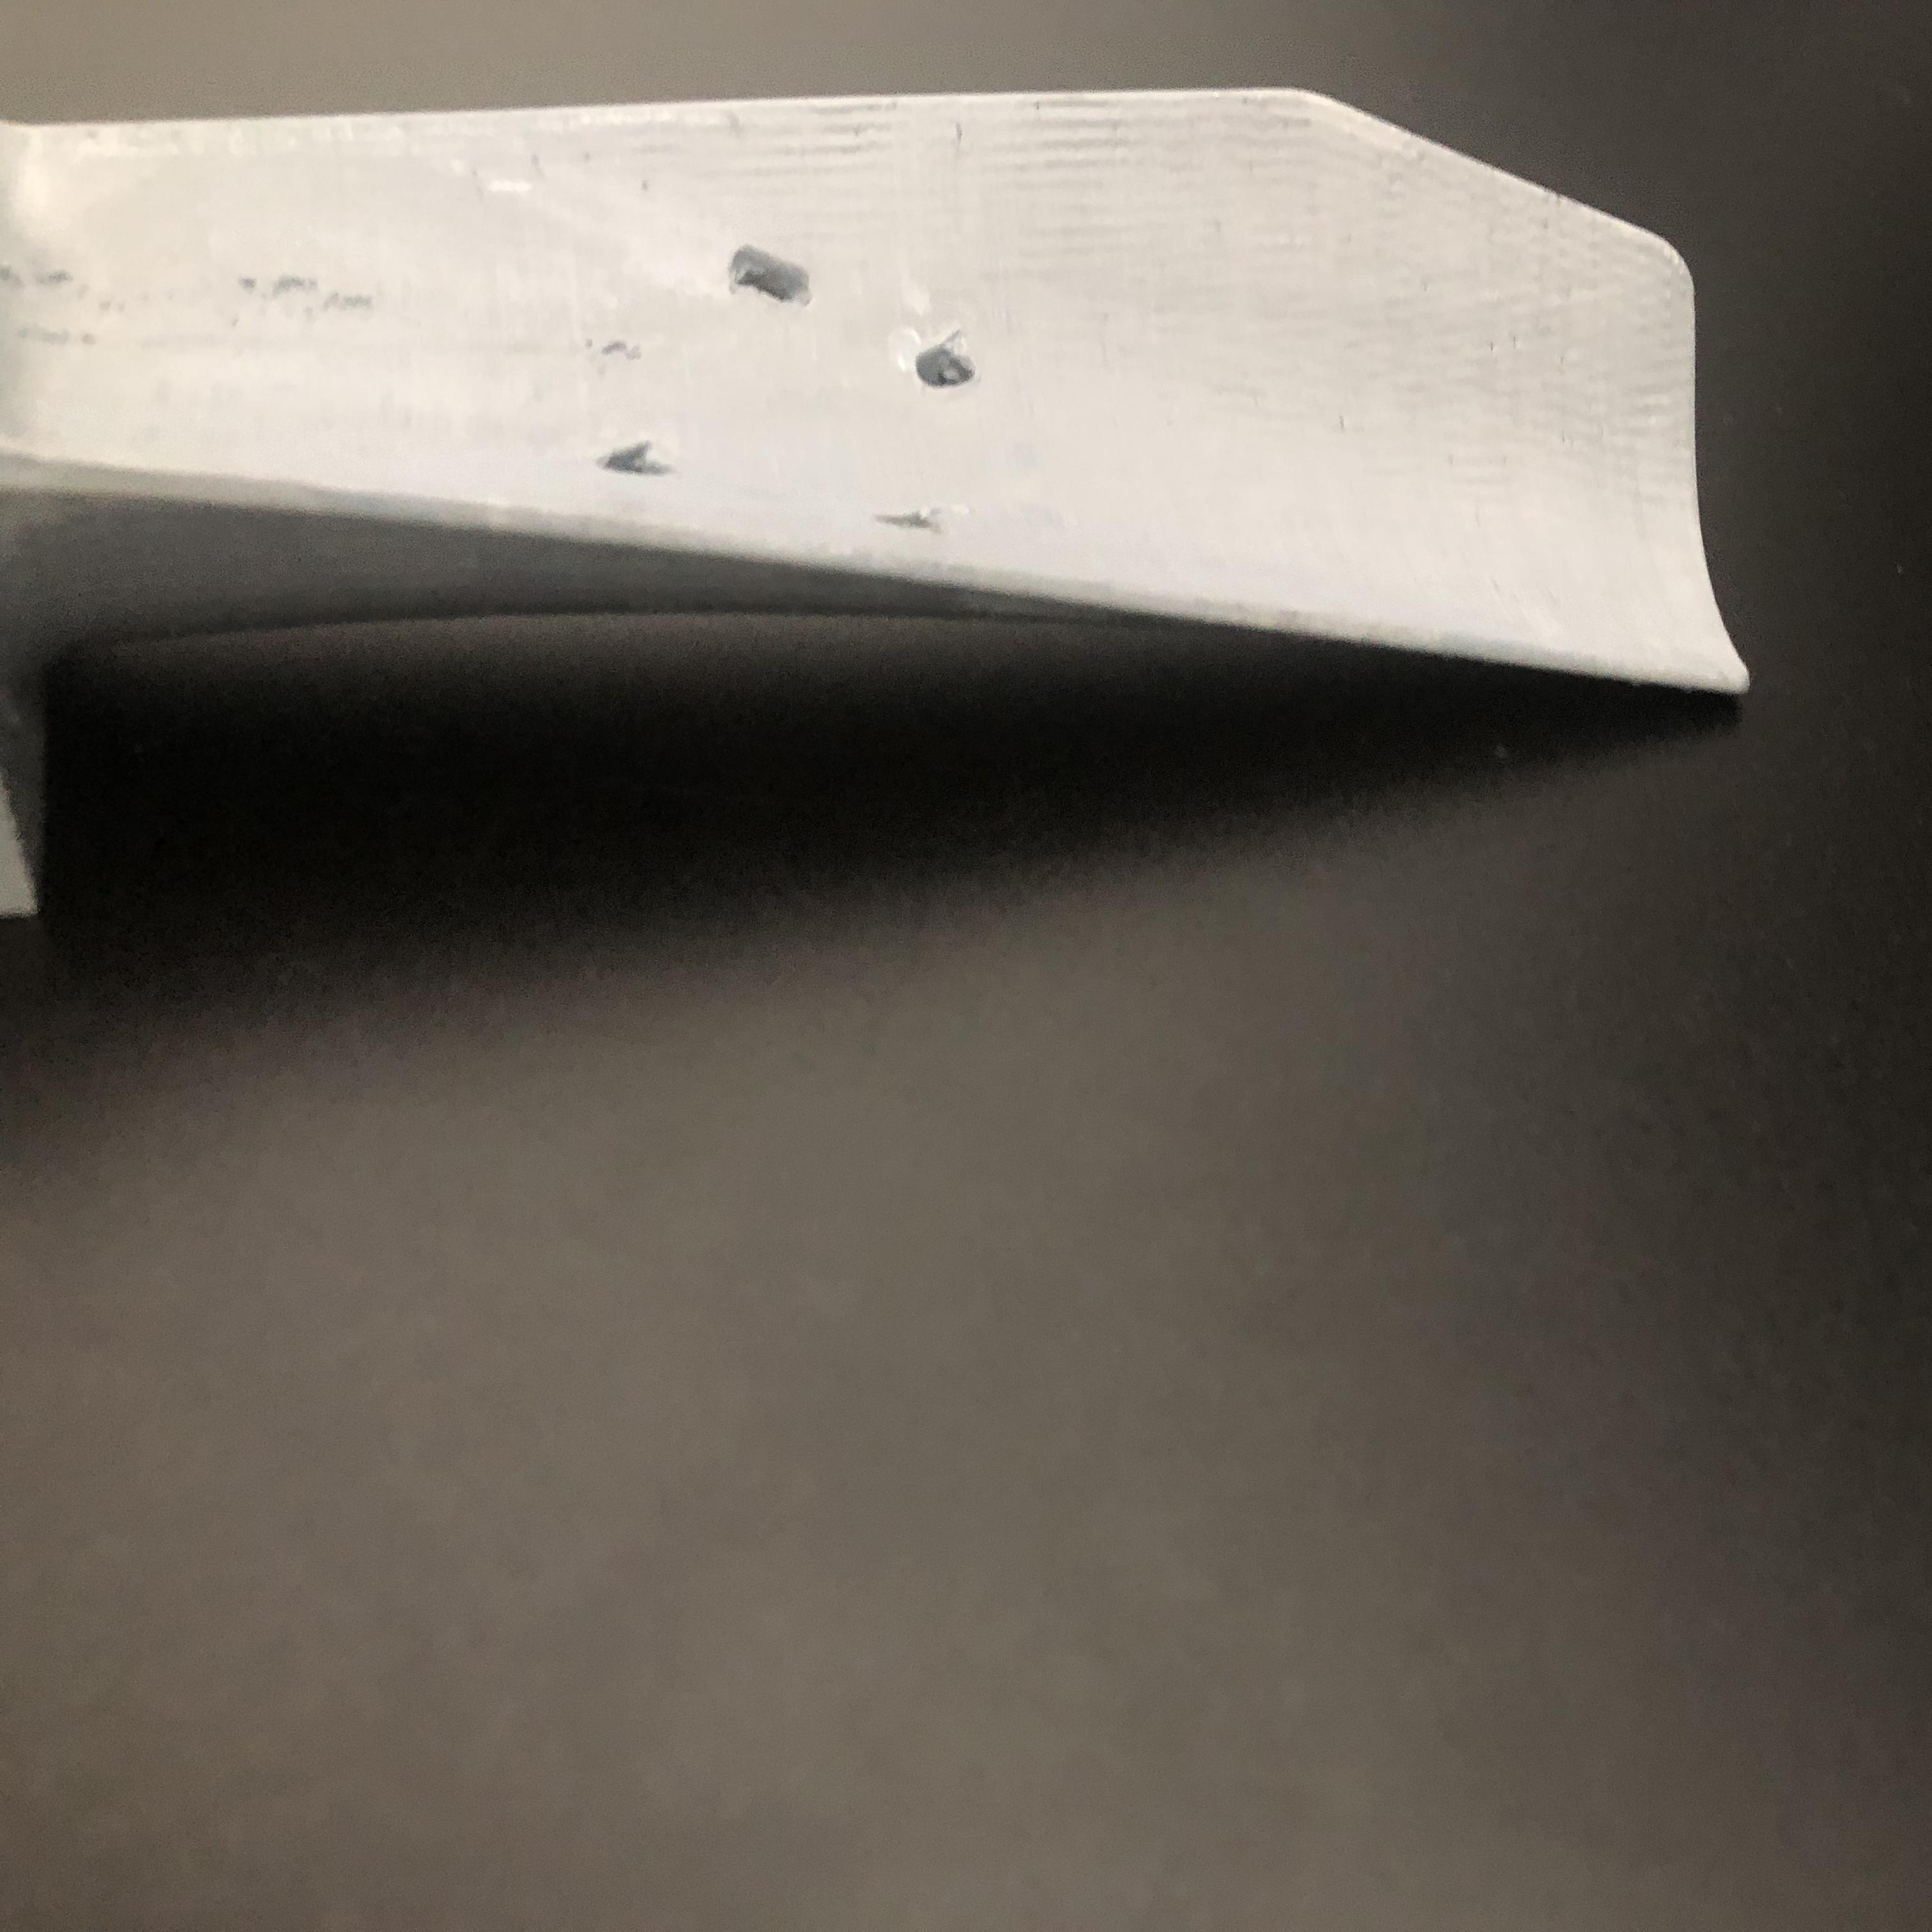breakdown: (617, 251, 966, 540)
